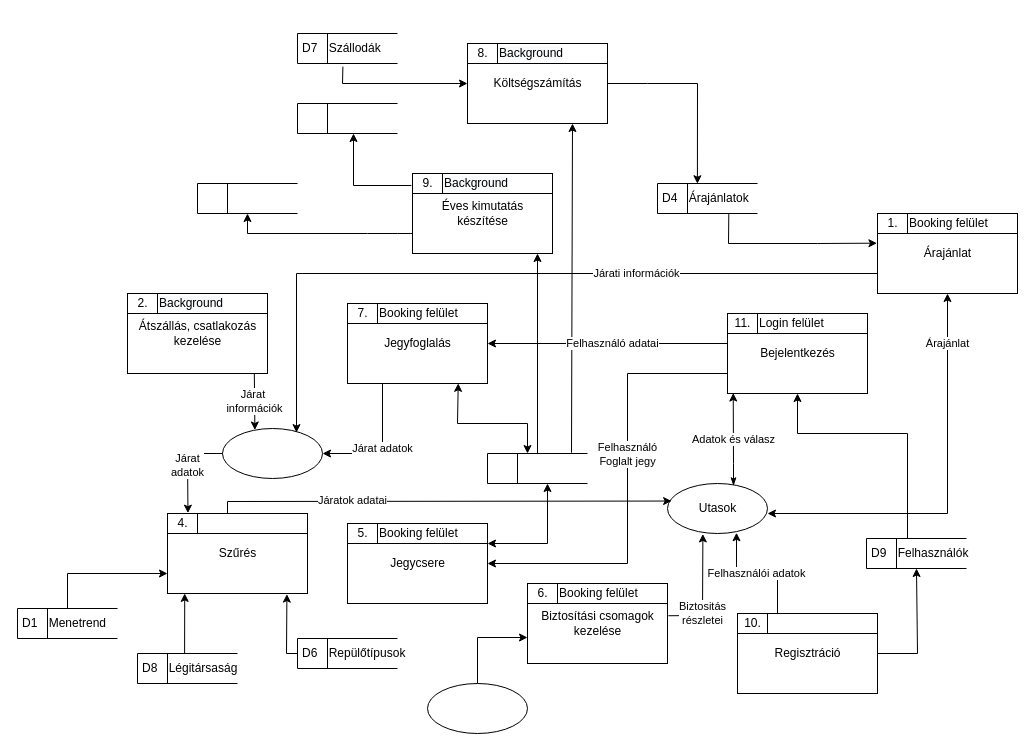
Some shapes in this 1035 by 751 pixel diagram are drawn without their labels. Each missing label, with the box of its shape:
Biztosítók: (426, 682, 528, 734)
D2 Jegyek: (486, 452, 588, 484)
D3 Legnépszerűbb járatok: (196, 182, 298, 214)
D5 Éves kimutatás: (296, 102, 398, 134)
Járat listázó felület: (196, 512, 308, 534)
Járatok: (222, 428, 322, 478)
Registration felület: (766, 612, 878, 634)
